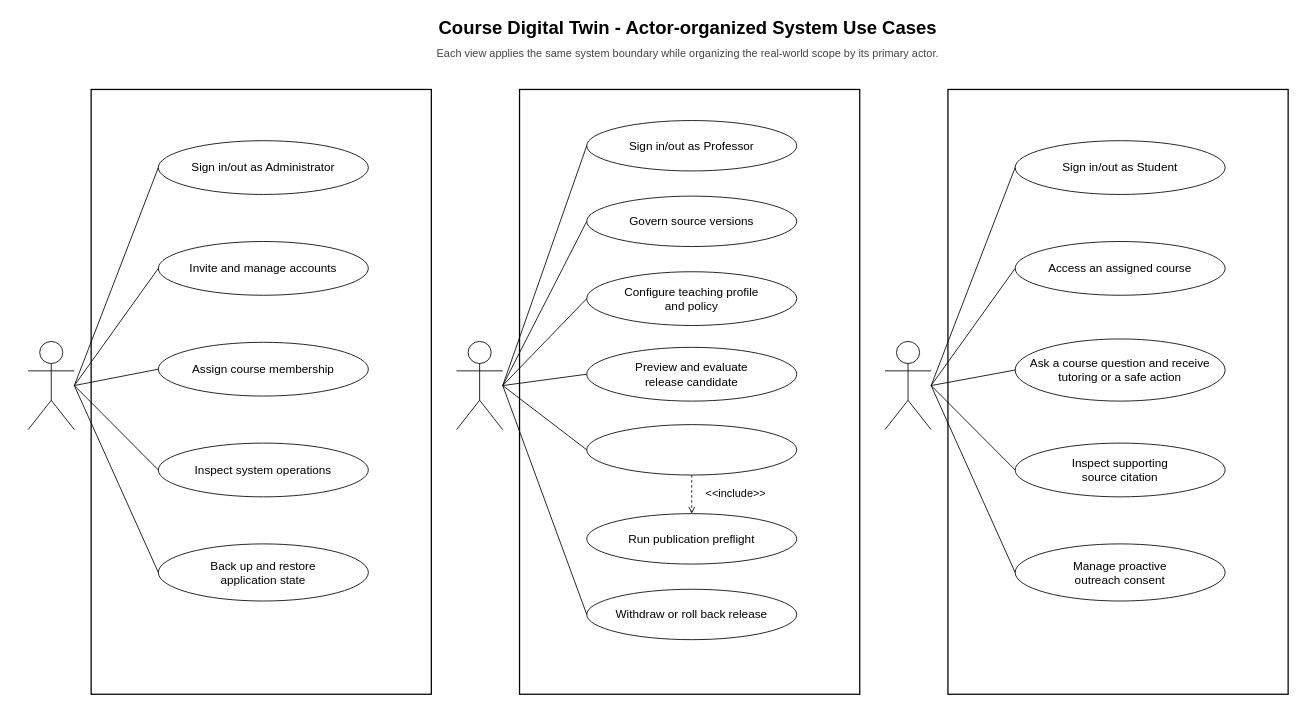
Image size: 1304x709. Some labels were removed from this diagram. The box of each missing label's shape, as (x1, y1, x2, y2) in pixels:
Administrator: (27, 341, 74, 430)
Course Digital Twin (Administrator view): (90, 88, 432, 695)
Course Digital Twin (Professor view): (519, 88, 860, 695)
Course Digital Twin (Student view): (947, 88, 1288, 695)
Professor: (456, 341, 503, 430)
Publish course release: (586, 424, 797, 475)
Student: (884, 341, 931, 430)
